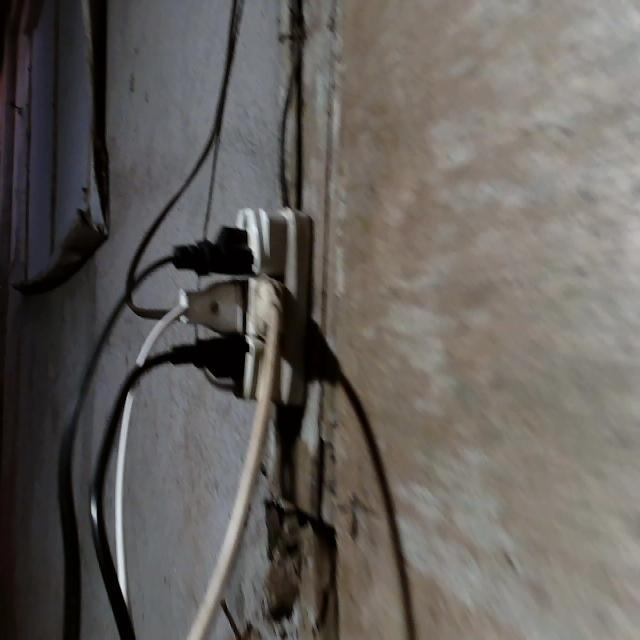-: (165, 208, 307, 400)
